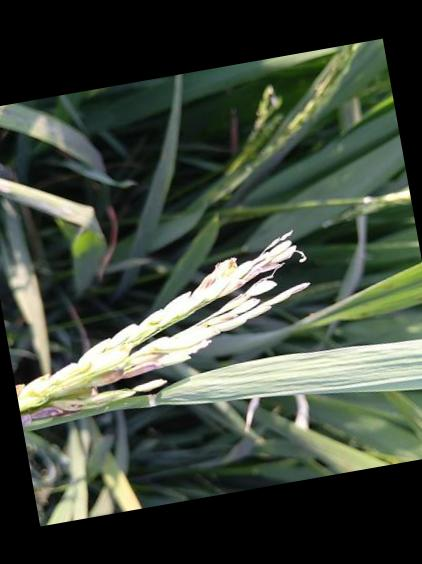Panicle Blight: (190, 253, 282, 302), (91, 362, 151, 385), (20, 407, 76, 427)
